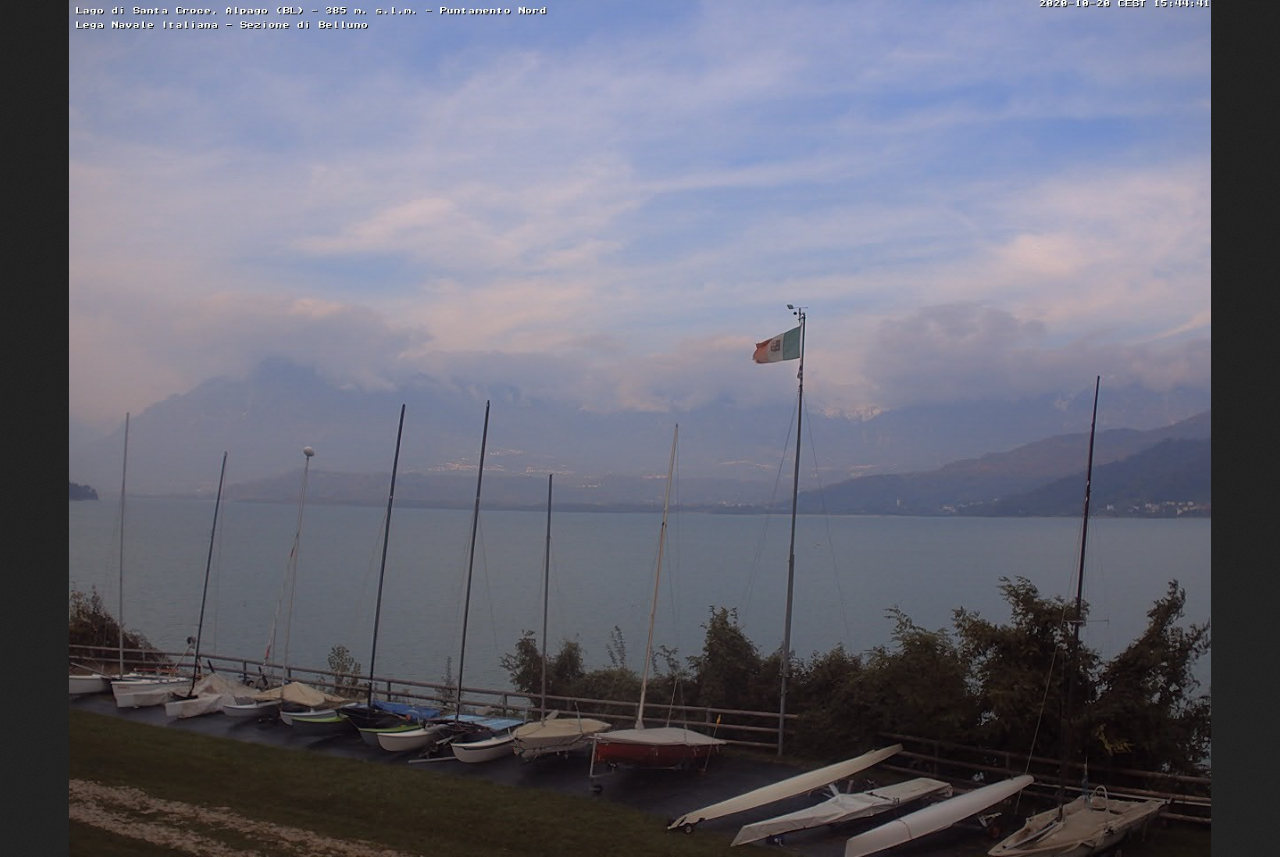yes: (747, 326, 808, 368)
